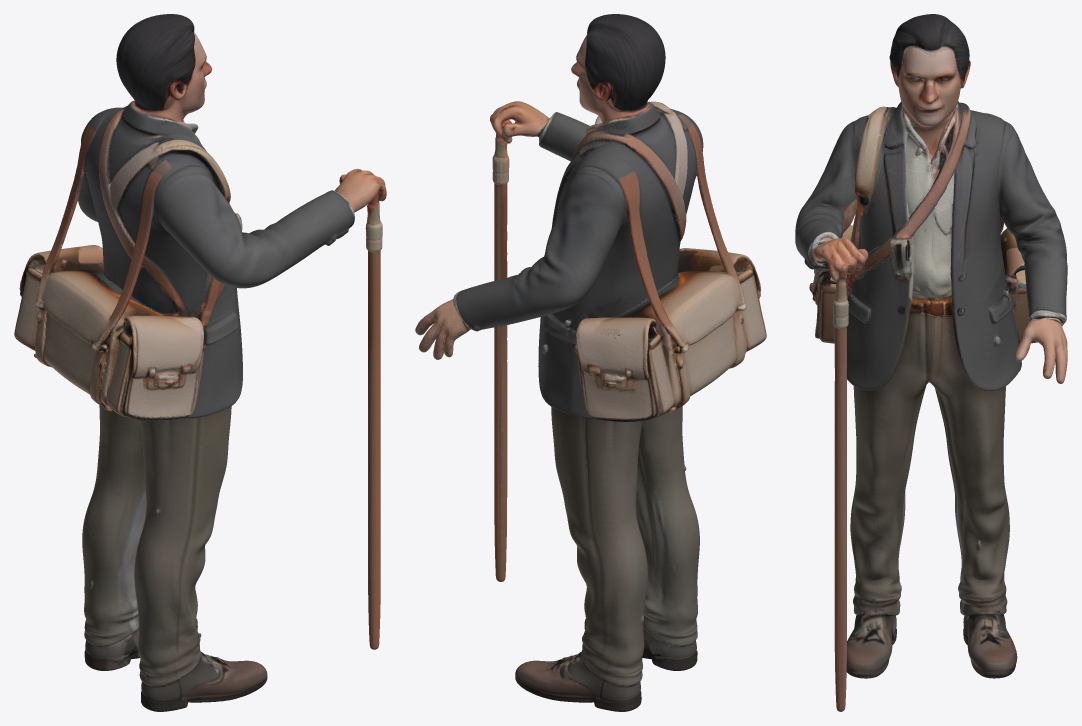
The model's file is descubridor_chavin.glb.
3 views of the same model, side by side, from view 1: azimuth 30°, elevation 25°; view 2: azimuth 150°, elevation 25°; view 3: azimuth 270°, elevation 25° (orthographic). The views are drawn at different scales.
Visible parts, largest first — view 1: tripo_node_c74c39e3-afab-485a-84f6-7aeb8178f582; view 2: tripo_node_c74c39e3-afab-485a-84f6-7aeb8178f582; view 3: tripo_node_c74c39e3-afab-485a-84f6-7aeb8178f582.
Boxes of the visible parts, x1,y1,x2,y2 form: tripo_node_c74c39e3-afab-485a-84f6-7aeb8178f582: (14, 14, 386, 711); tripo_node_c74c39e3-afab-485a-84f6-7aeb8178f582: (415, 14, 766, 711); tripo_node_c74c39e3-afab-485a-84f6-7aeb8178f582: (795, 14, 1067, 711).
Size of the model in its own units: 0.4325 by 1 by 0.3886.
1 material, 1 textured.
